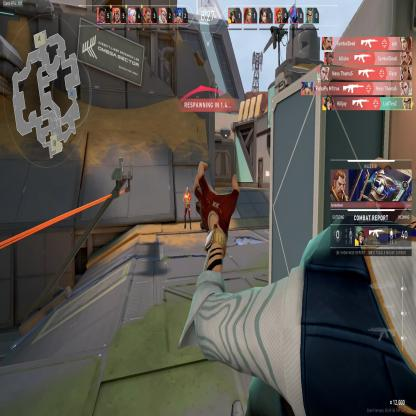enemy: (182, 186, 192, 230)
